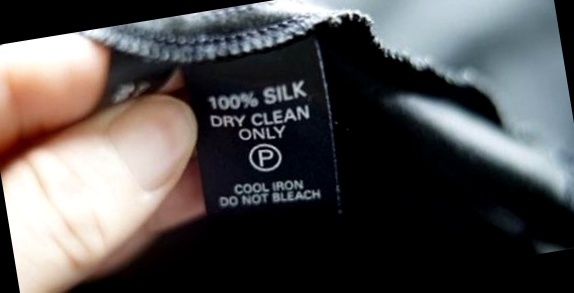dry_clean_any_solvent_except_trichloroethylene: (247, 139, 286, 174)
